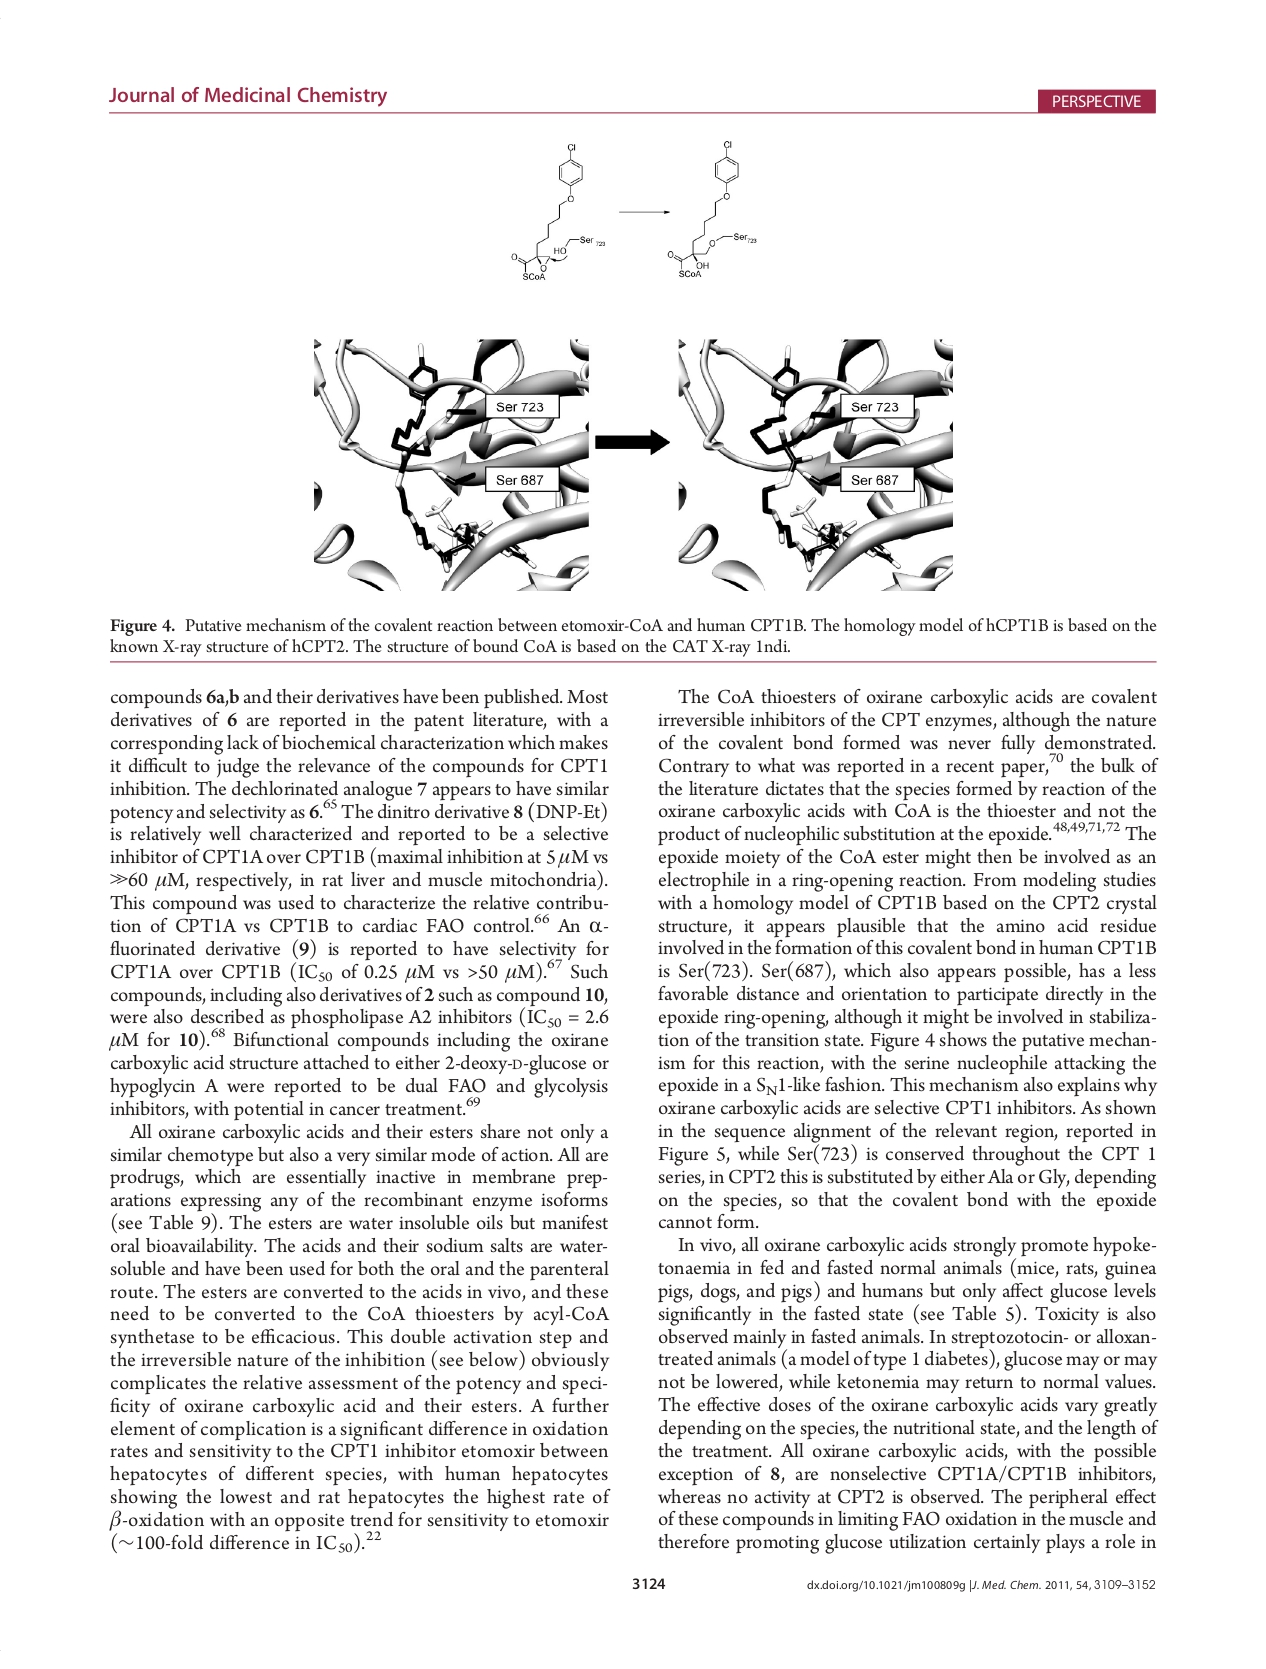exist_molecular: (505, 140, 610, 285), (666, 136, 761, 285)
